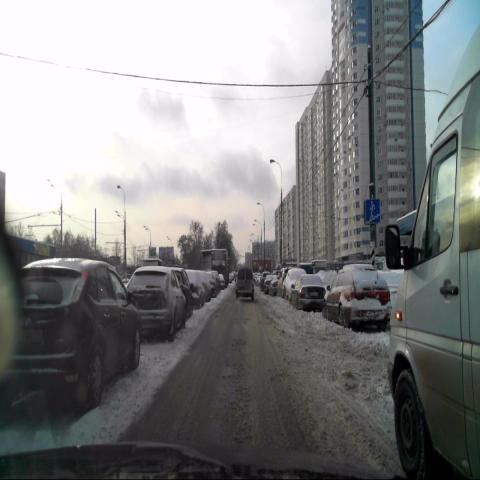6_6: (365, 200, 379, 225)
